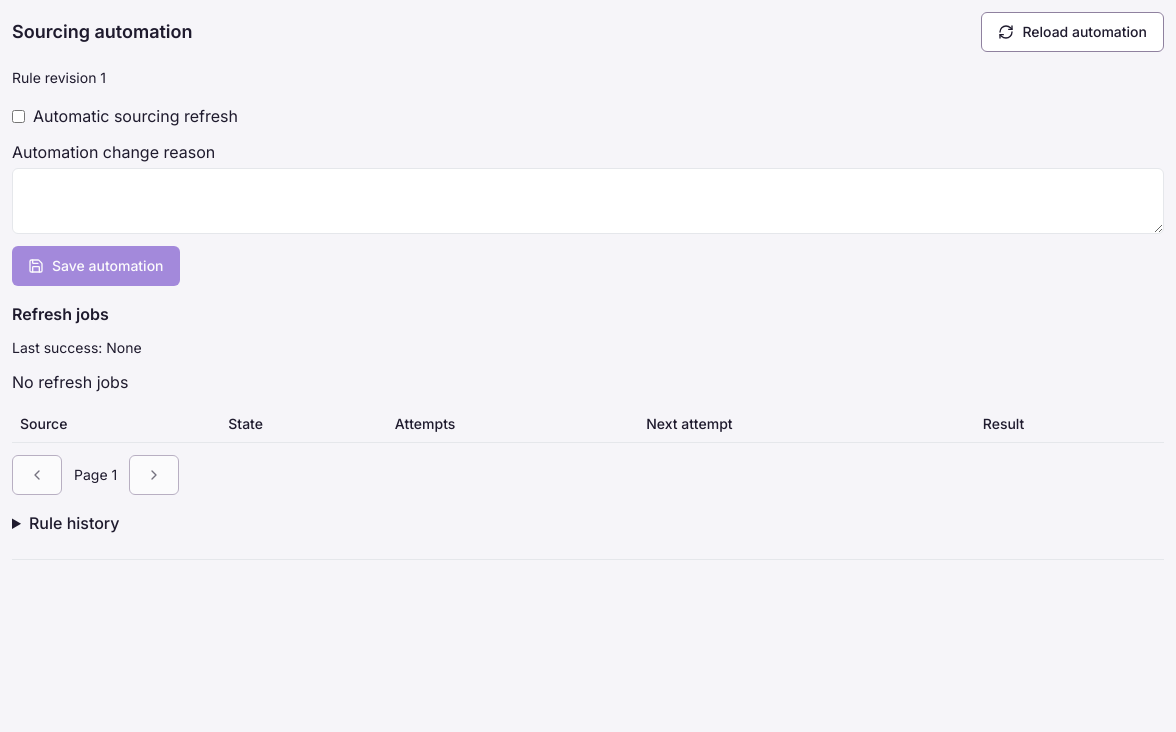
Test: Sourcing automation controls › preserves the draft and original CAS after a conflicting save
Click the checkbox labelled "Automatic sourcing refresh": (18, 116) [12,110,25,122]
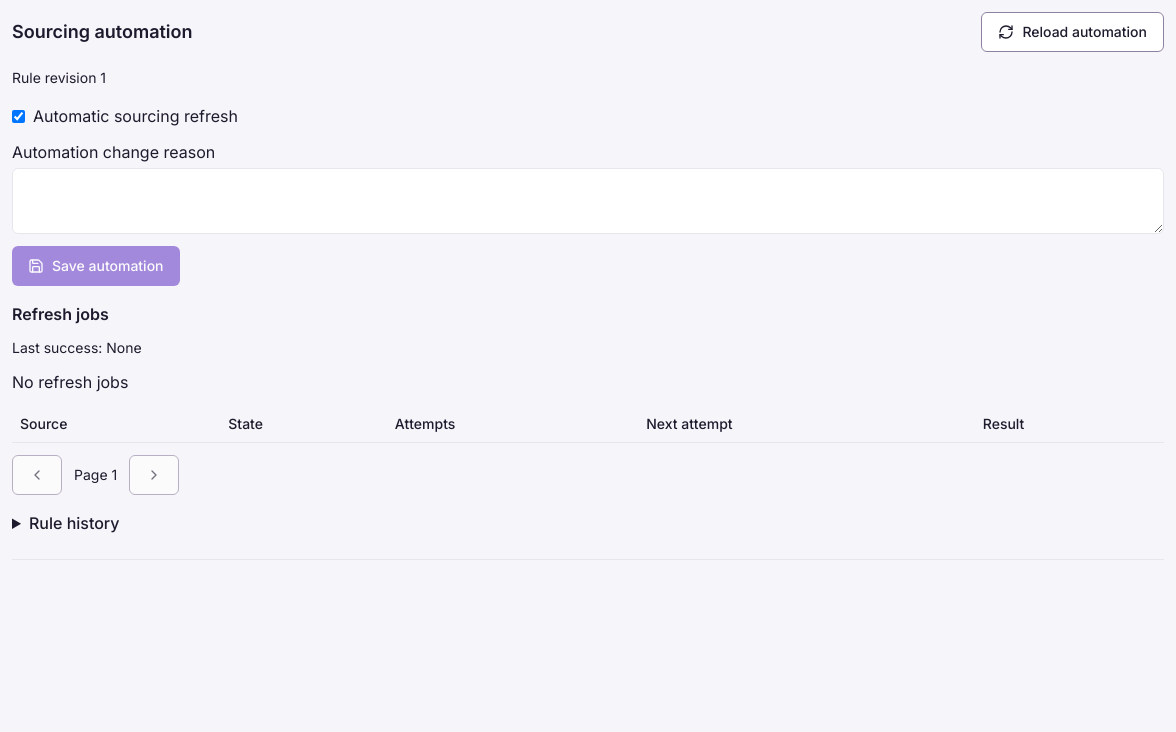
In the text box labelled "Automation change reason": (588, 201) [12,168,1164,234], type "Keep this reason"
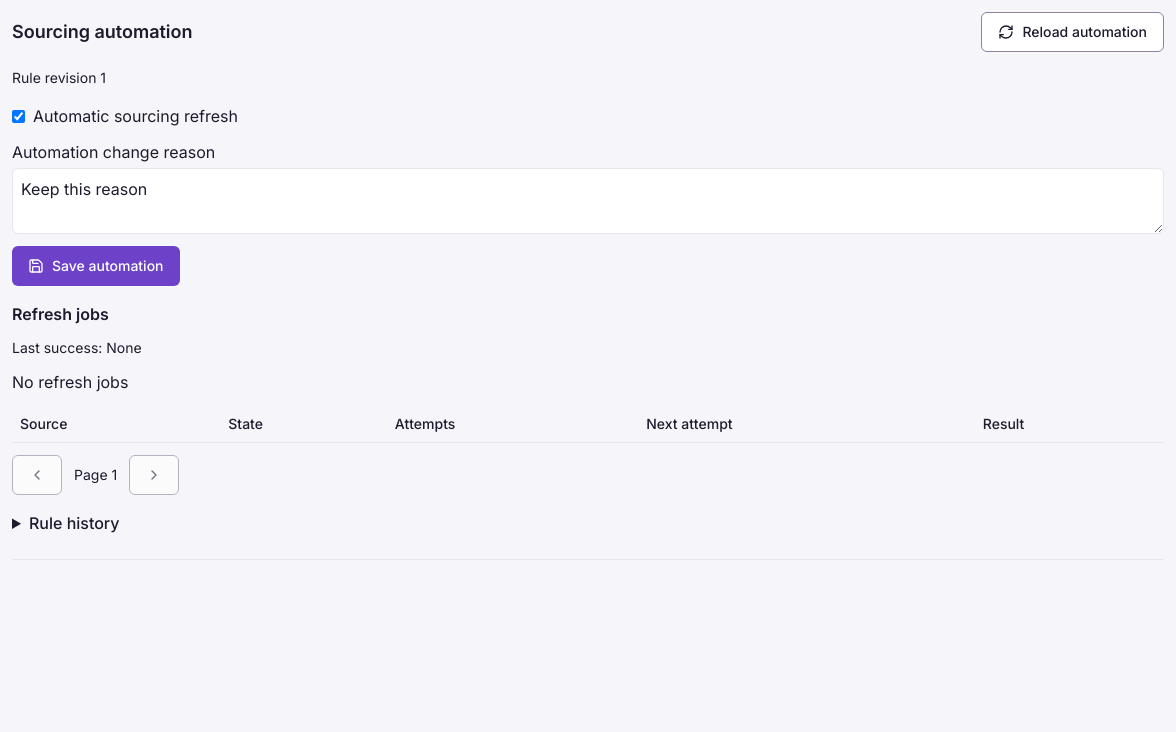
Click the button "Save automation": (96, 266) [12,246,180,286]
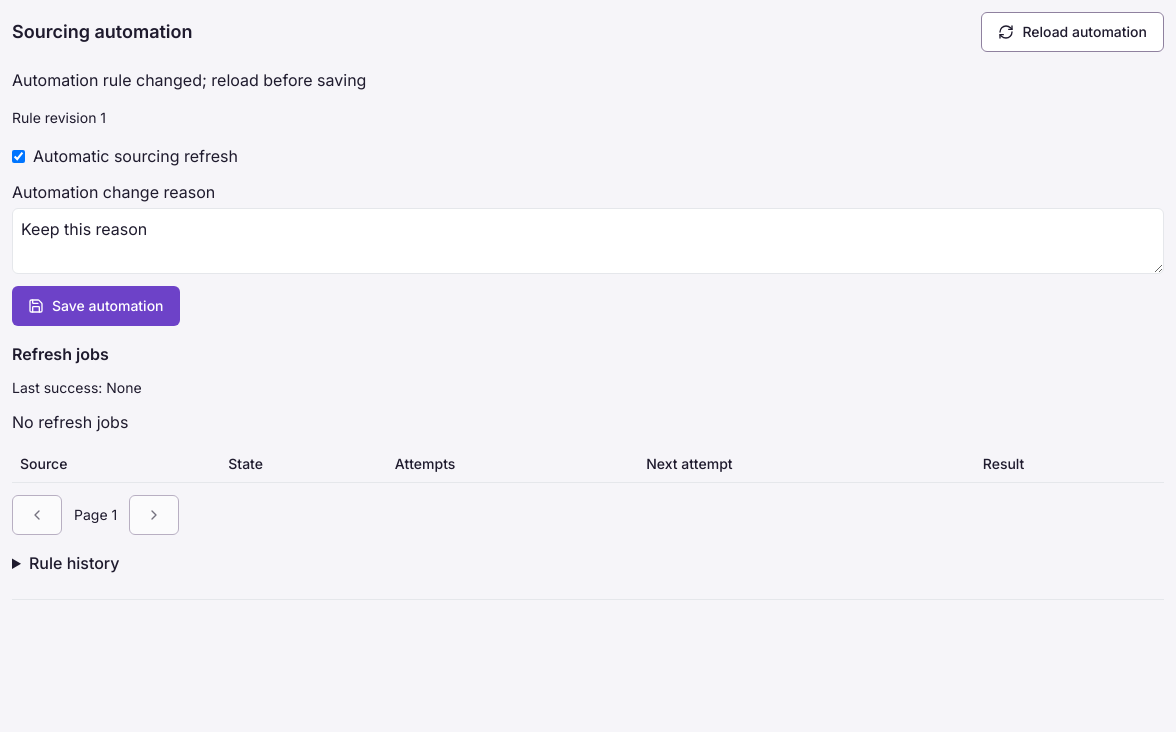
expect the checkbox labelled "Automatic sourcing refresh" is checked: met, box [12,150,25,162]
expect the message shows "Automation rule changed": met, box [12,70,366,90]
